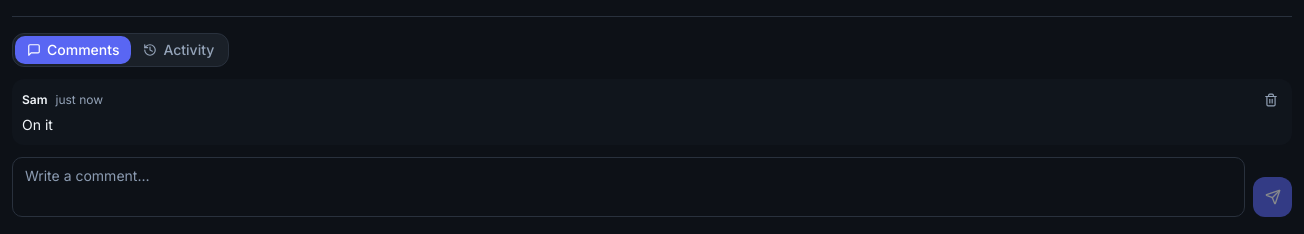
it: TaskThread › shows the history as sentences
Click the button "Activity" at x=179, y=50, box [131,36,226,64]
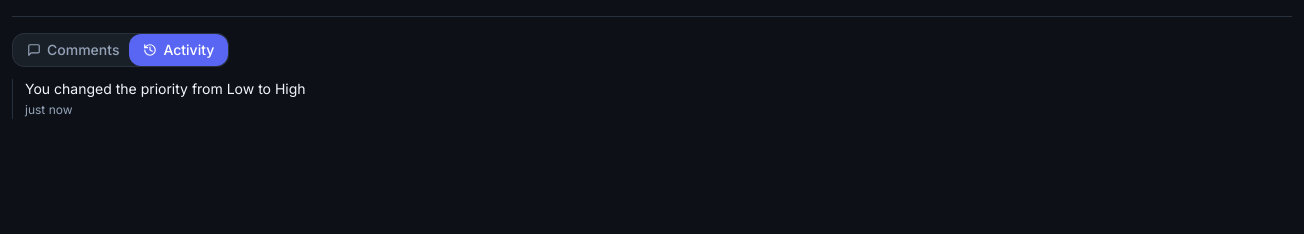
expect the text "You changed the priority from Low to High" is shown: met, box [25,80,306,97]
